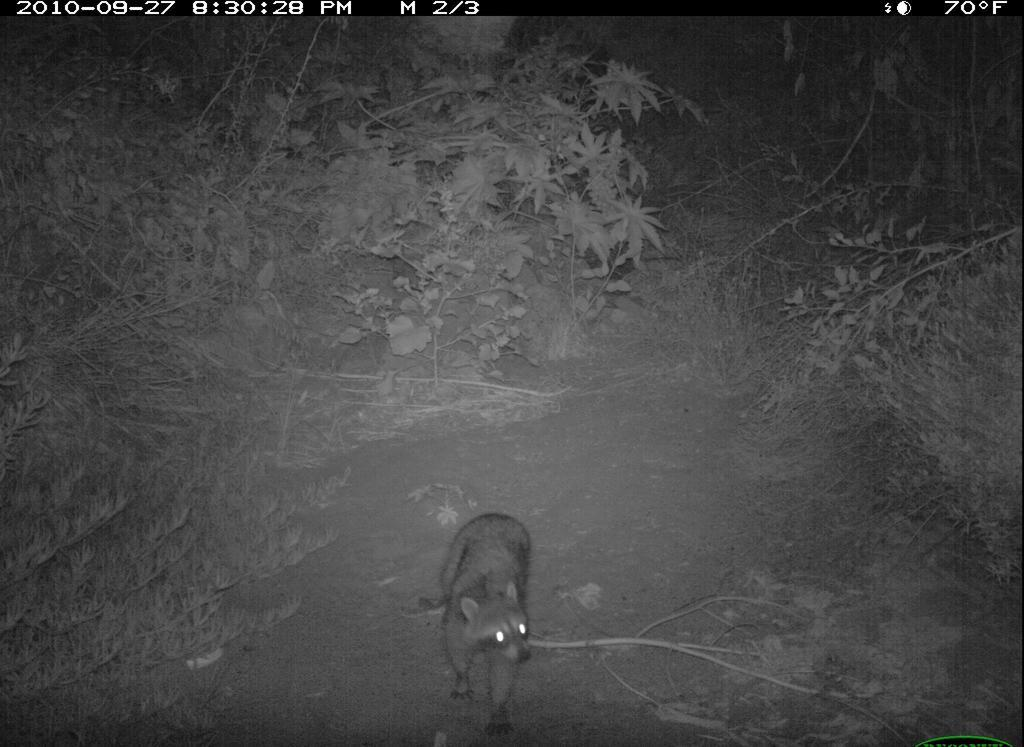raccoon: (413, 515, 551, 735)
